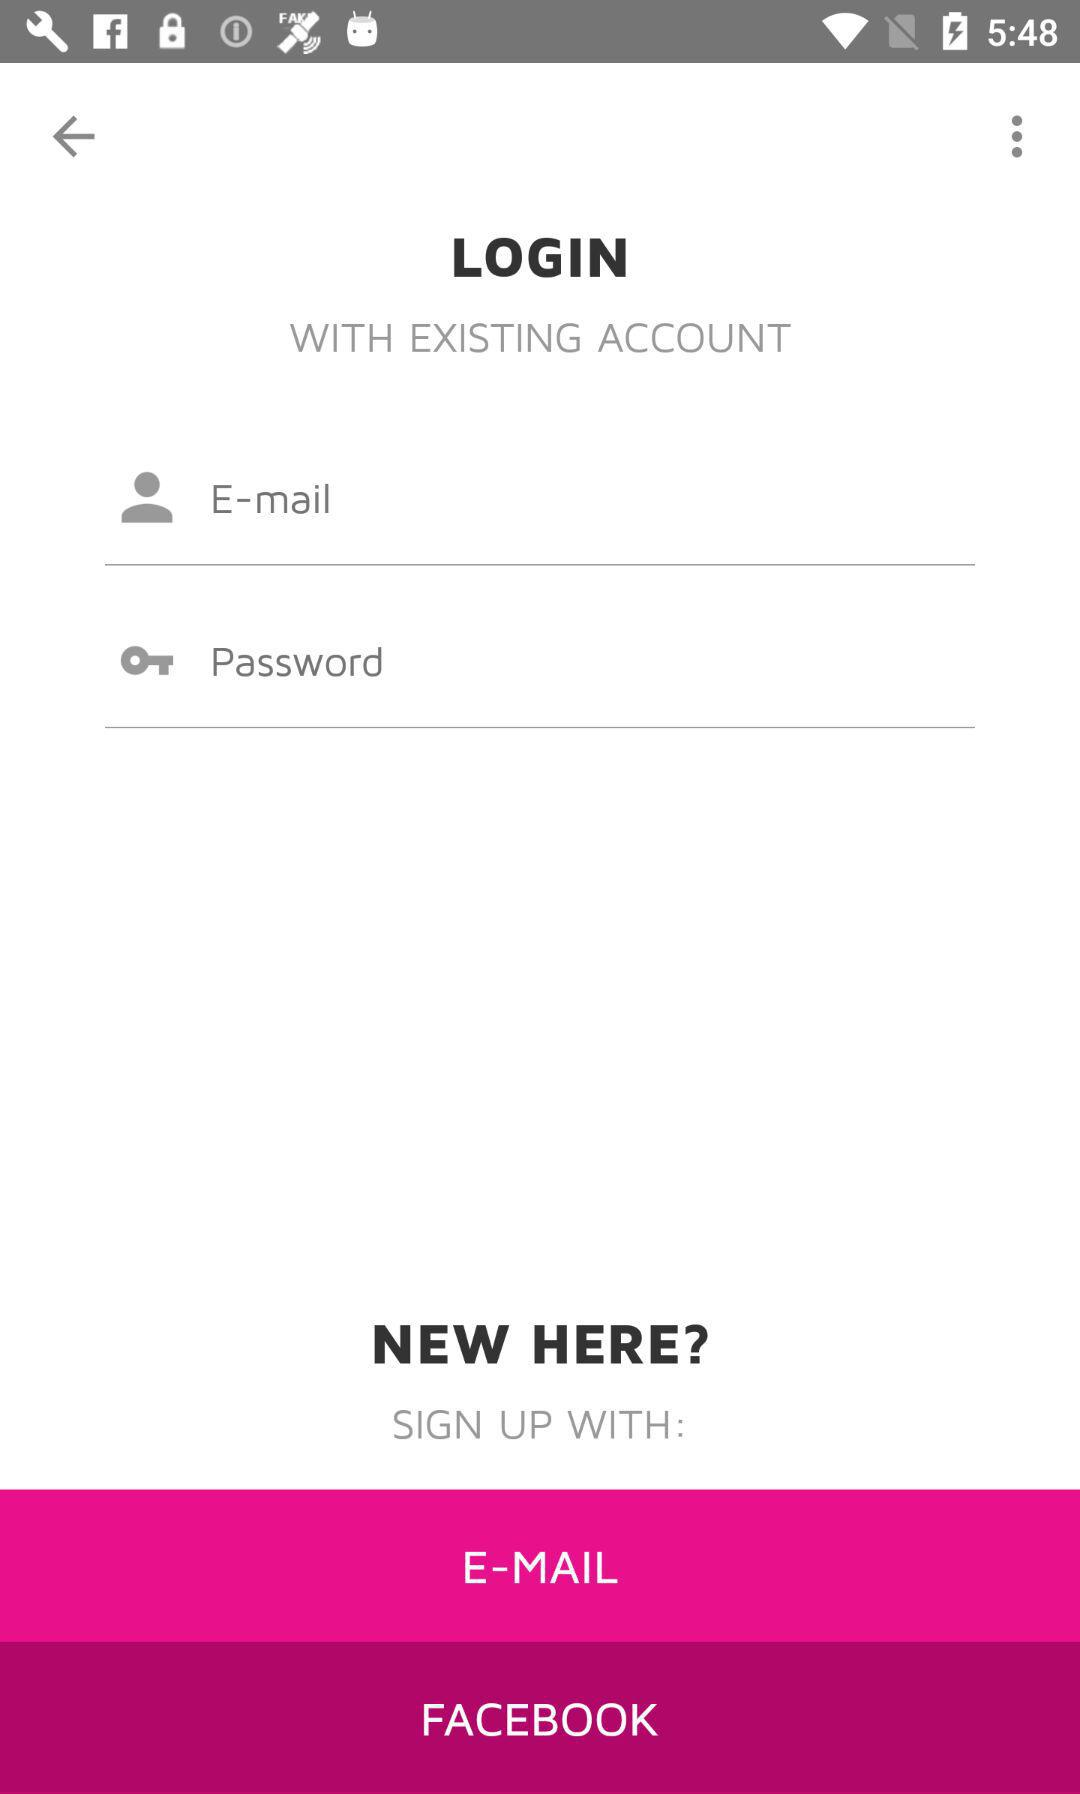EditText: (105, 472, 976, 566), (105, 646, 975, 729)
Icon: (120, 472, 174, 525), (53, 115, 97, 159), (1011, 115, 1024, 160)
Image: (120, 646, 176, 677)
Text: (290, 323, 793, 355), (374, 1322, 710, 1366), (393, 1407, 685, 1442), (454, 237, 628, 279), (213, 647, 384, 679), (213, 483, 331, 516)
TextButton: (1, 1642, 1080, 1794), (1, 1490, 1080, 1642)
UpperTaskBar: (1, 1, 1080, 64)
